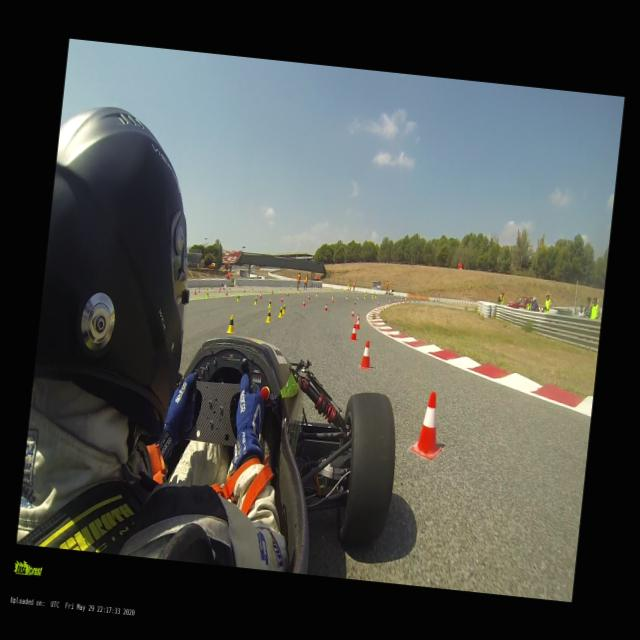orange_cone: (409, 389, 447, 460), (358, 340, 374, 370), (349, 323, 358, 341), (354, 318, 360, 330), (350, 309, 354, 317), (324, 304, 328, 312), (356, 314, 360, 322), (280, 296, 283, 303), (302, 299, 305, 306), (307, 294, 310, 300), (258, 292, 261, 298), (225, 290, 228, 296), (331, 297, 334, 302), (353, 299, 356, 304), (376, 300, 378, 306), (270, 289, 272, 294), (286, 292, 288, 296), (388, 300, 390, 304)
yellow_cone: (226, 314, 236, 333), (265, 309, 271, 322), (277, 306, 283, 318), (280, 302, 286, 314), (268, 298, 272, 308), (253, 296, 257, 305), (236, 294, 240, 302), (205, 290, 208, 298), (315, 291, 318, 296), (298, 288, 300, 294), (363, 294, 365, 299), (356, 294, 358, 299), (346, 294, 348, 298), (288, 286, 290, 290), (279, 288, 281, 292)
